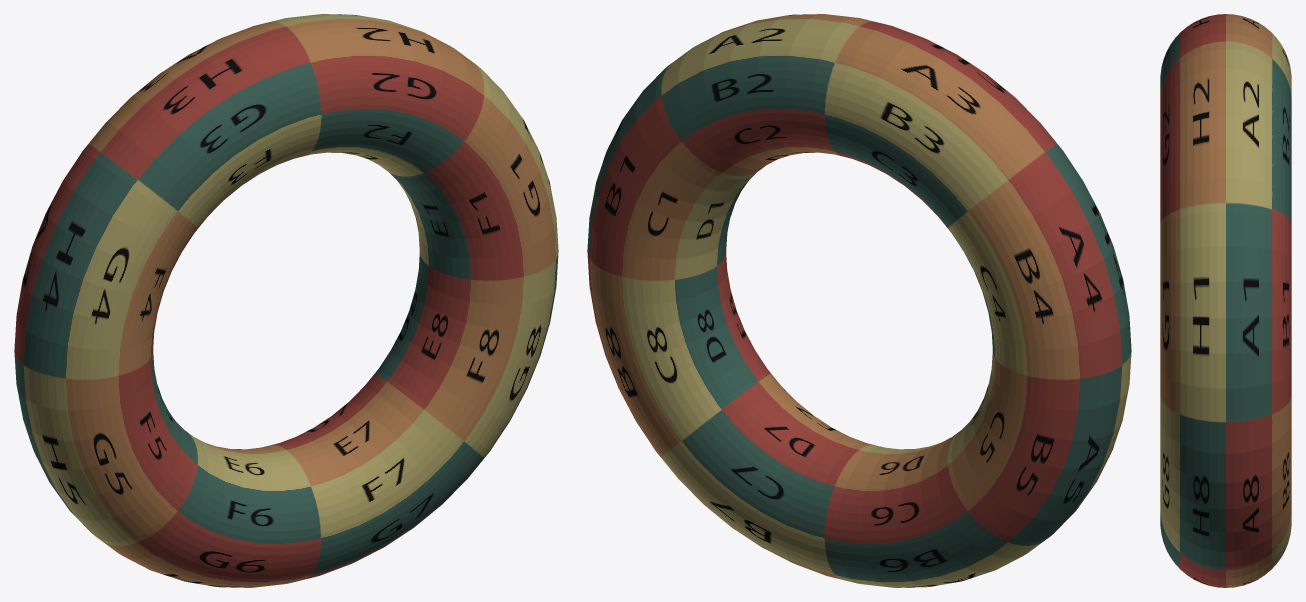
Rendered from texture_torus_R14_r14.glb.
The picture shows the model from 3 angles, left to right: view 1: azimuth 30°, elevation 25°; view 2: azimuth 150°, elevation 25°; view 3: azimuth 270°, elevation 25°; orthographic projection. The views are drawn at different scales.
Parts seen in each view (by area): view 1: world; view 2: world; view 3: world.
Boxes of the visible parts, left/top/right/bottom form: world: left=14, top=14, right=558, bottom=587; world: left=587, top=14, right=1131, bottom=587; world: left=1160, top=14, right=1291, bottom=587.
Size of the model in its own units: 25.07 by 25.02 by 5.72.
1 material, 1 textured.
